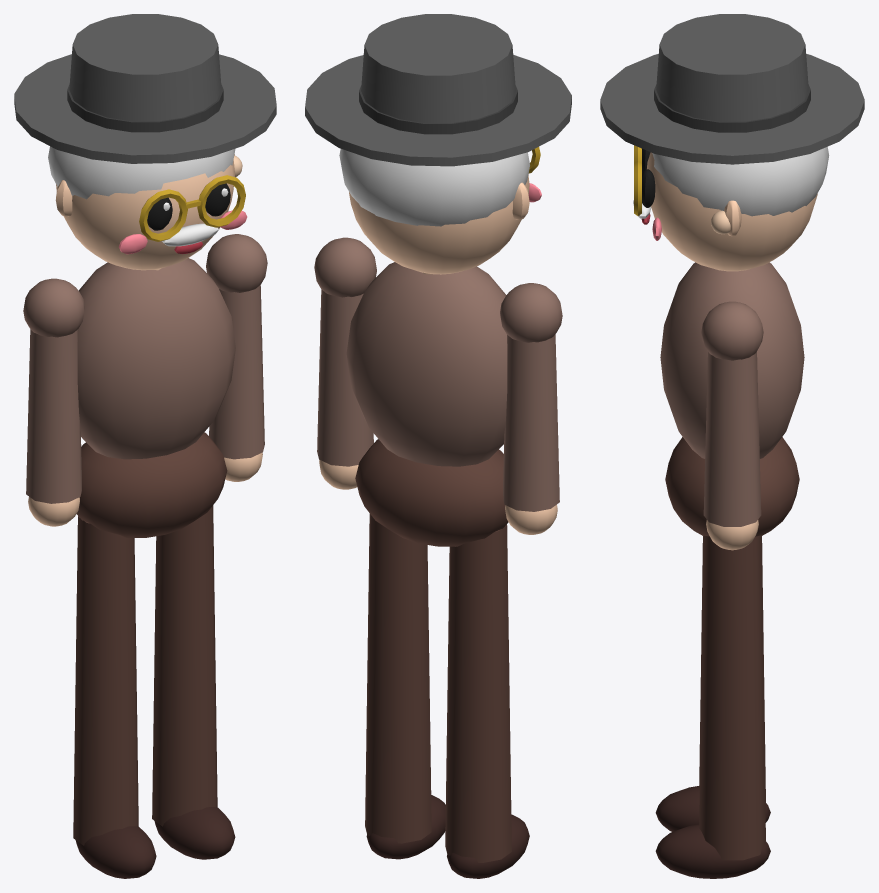
The model's file is cameos_zaidy.glb.
3 renders of one model, left to right at view 1: azimuth 30°, elevation 25°; view 2: azimuth 150°, elevation 25°; view 3: azimuth 270°, elevation 25°, orthographic.
Parts seen in each view (by area): view 1: Body.020, Leg_R.020, Leg_L.020, Arm_R.020, Arm_L.020; view 2: Body.020, Leg_R.020, Leg_L.020, Arm_R.020, Arm_L.020; view 3: Body.020, Leg_L.020, Arm_L.020, Leg_R.020.
Boxes of the visible parts, bbox=[...] form: Body.020: bbox=[14, 14, 276, 538]; Leg_R.020: bbox=[73, 516, 156, 878]; Leg_L.020: bbox=[152, 505, 235, 859]; Arm_R.020: bbox=[23, 278, 84, 526]; Arm_L.020: bbox=[206, 234, 267, 481]; Body.020: bbox=[305, 14, 571, 546]; Leg_R.020: bbox=[445, 524, 529, 878]; Leg_L.020: bbox=[365, 513, 445, 859]; Arm_R.020: bbox=[500, 283, 562, 534]; Arm_L.020: bbox=[314, 237, 376, 489]; Body.020: bbox=[600, 14, 864, 536]; Leg_L.020: bbox=[655, 535, 770, 878]; Arm_L.020: bbox=[701, 301, 763, 550]; Leg_R.020: bbox=[655, 536, 770, 831].
Size of the model in its own units: 0.57 by 1.86 by 0.551.
